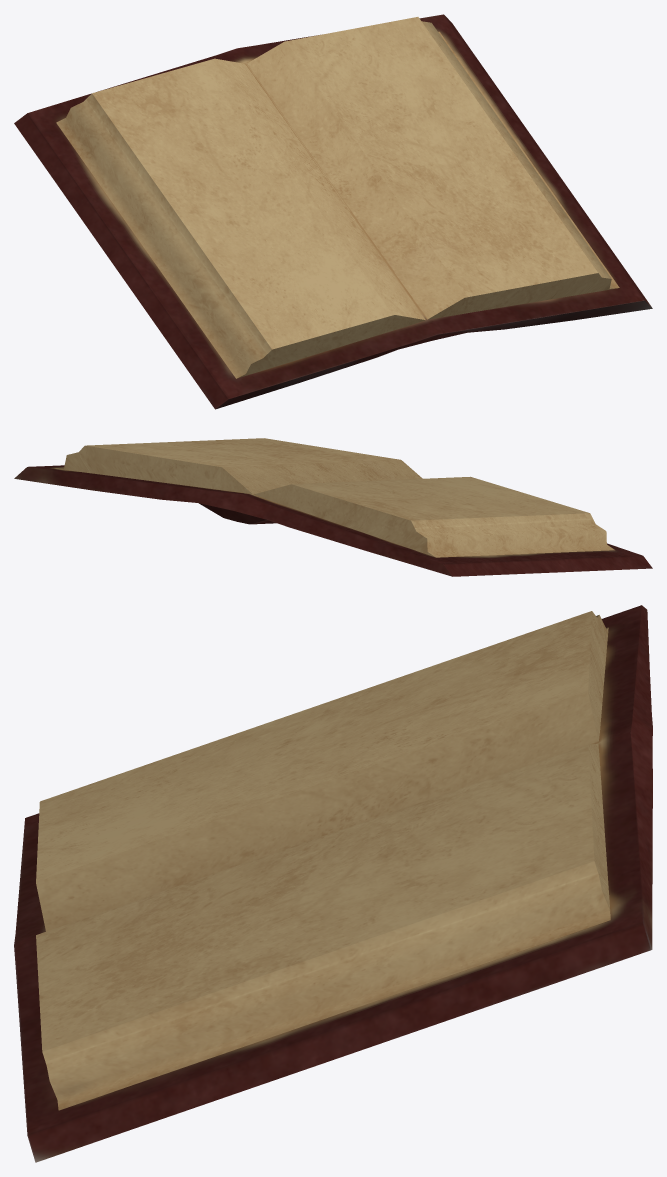
Rendered from BookFin.fbx.
3 views of the same model, one above another, from view 1: azimuth 30°, elevation 25°; view 2: azimuth 150°, elevation 25°; view 3: azimuth 270°, elevation 25° (orthographic). The views are drawn at different scales.
Visible parts, largest first — view 1: Book; view 2: Book; view 3: Book.
Part boxes in pixels (x1=…): Book: x1=14, y1=14, x2=652, y2=409; Book: x1=14, y1=438, x2=652, y2=576; Book: x1=14, y1=605, x2=652, y2=1162.
Bounding box in the file's own units: 4.83 × 1.9 × 3.97.
1 material, 1 textured.
